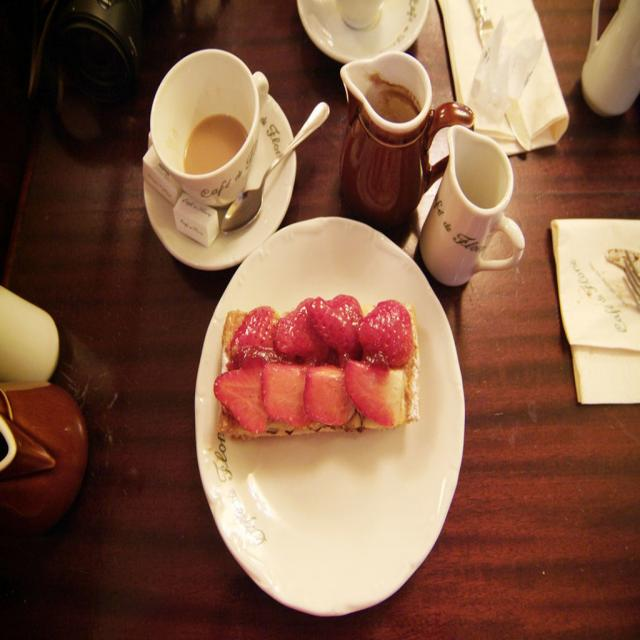non-organic waste: (198, 206, 473, 626)
